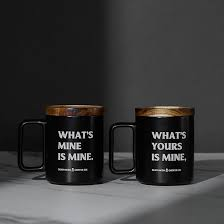mug: (11, 91, 157, 188), (109, 95, 199, 195)
